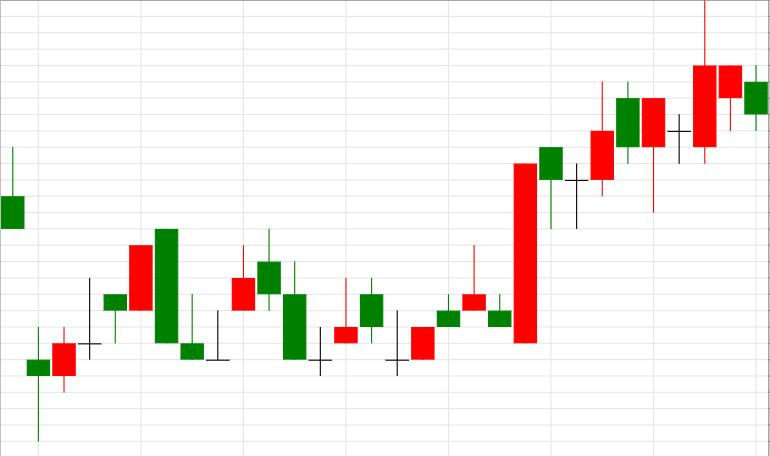bearish_engulfing_fall: (27, 229, 178, 441)
hanging_man_fall: (385, 148, 562, 376)
